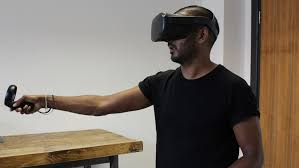oculus: (150, 12, 204, 45)
